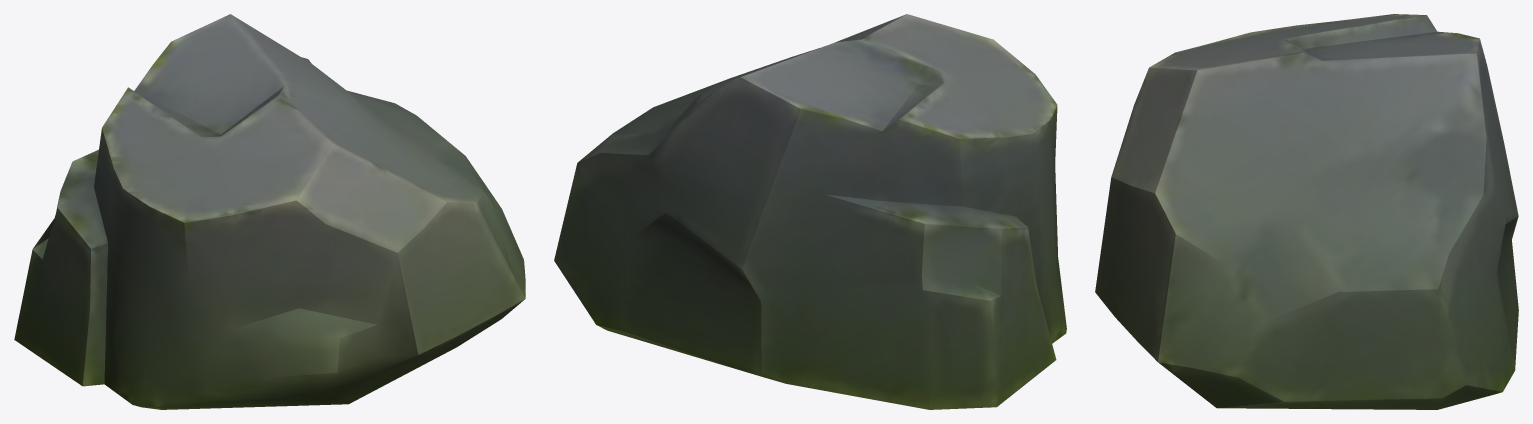
The model's file is Rock_Medium_2.glb.
The picture shows the model from 3 angles, left to right: view 1: azimuth 30°, elevation 25°; view 2: azimuth 150°, elevation 25°; view 3: azimuth 270°, elevation 25°; orthographic projection. The views are drawn at different scales.
Visible parts, largest first — view 1: Rock_Medium_2; view 2: Rock_Medium_2; view 3: Rock_Medium_2.
Boxes of the visible parts, left/top/right/bottom form: Rock_Medium_2: left=14, top=14, right=525, bottom=409; Rock_Medium_2: left=554, top=14, right=1066, bottom=409; Rock_Medium_2: left=1095, top=14, right=1518, bottom=409.
Size of the model in its own units: 3.05 by 1.9 by 2.48.
Materials: 1 (1 with a texture image).
